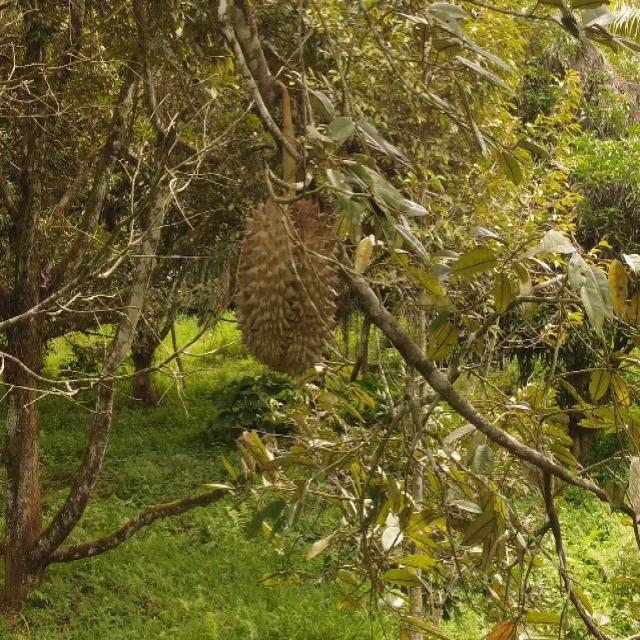mature: (236, 193, 339, 377)
